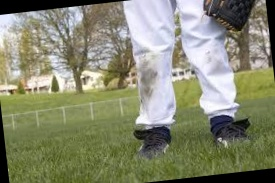earth: (139, 60, 157, 96)
